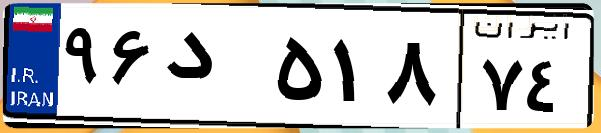1: (330, 28, 385, 110)
4: (525, 38, 570, 115)
5: (270, 28, 330, 110)
6: (110, 28, 158, 98)
7: (475, 38, 525, 113)
8: (385, 28, 445, 110)
9: (57, 26, 110, 100)
د: (158, 20, 270, 120)
